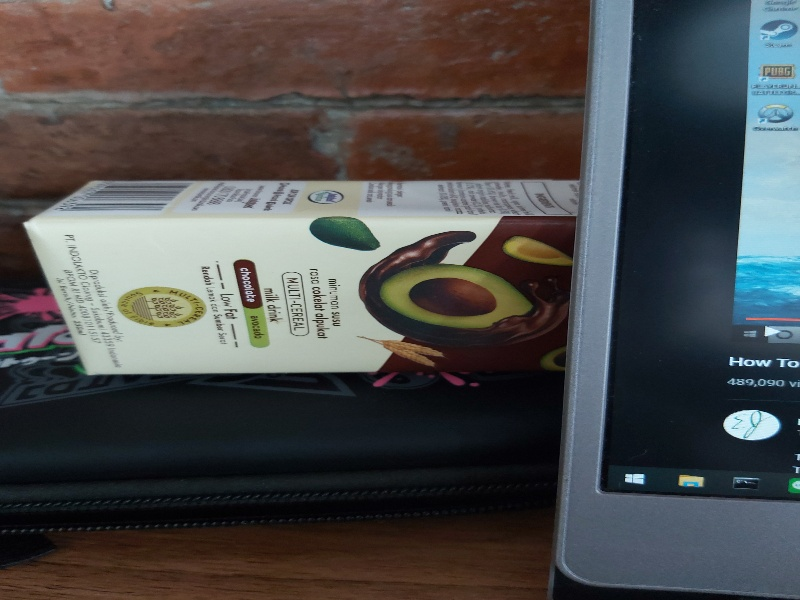cokelat: (20, 177, 580, 377)
